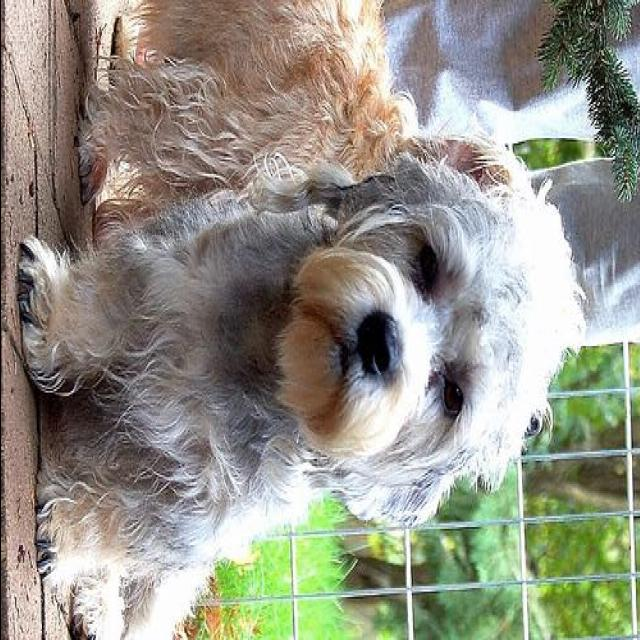dandie_dinmont: (17, 0, 583, 636)
